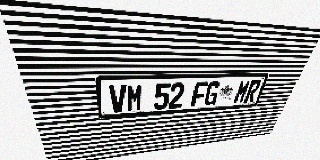2: (168, 82, 186, 109)
5: (154, 83, 171, 110)
F: (190, 82, 209, 107)
G: (203, 81, 221, 106)
M: (127, 84, 143, 112), (233, 80, 251, 104)
R: (243, 80, 262, 103)
V: (109, 84, 126, 113)
